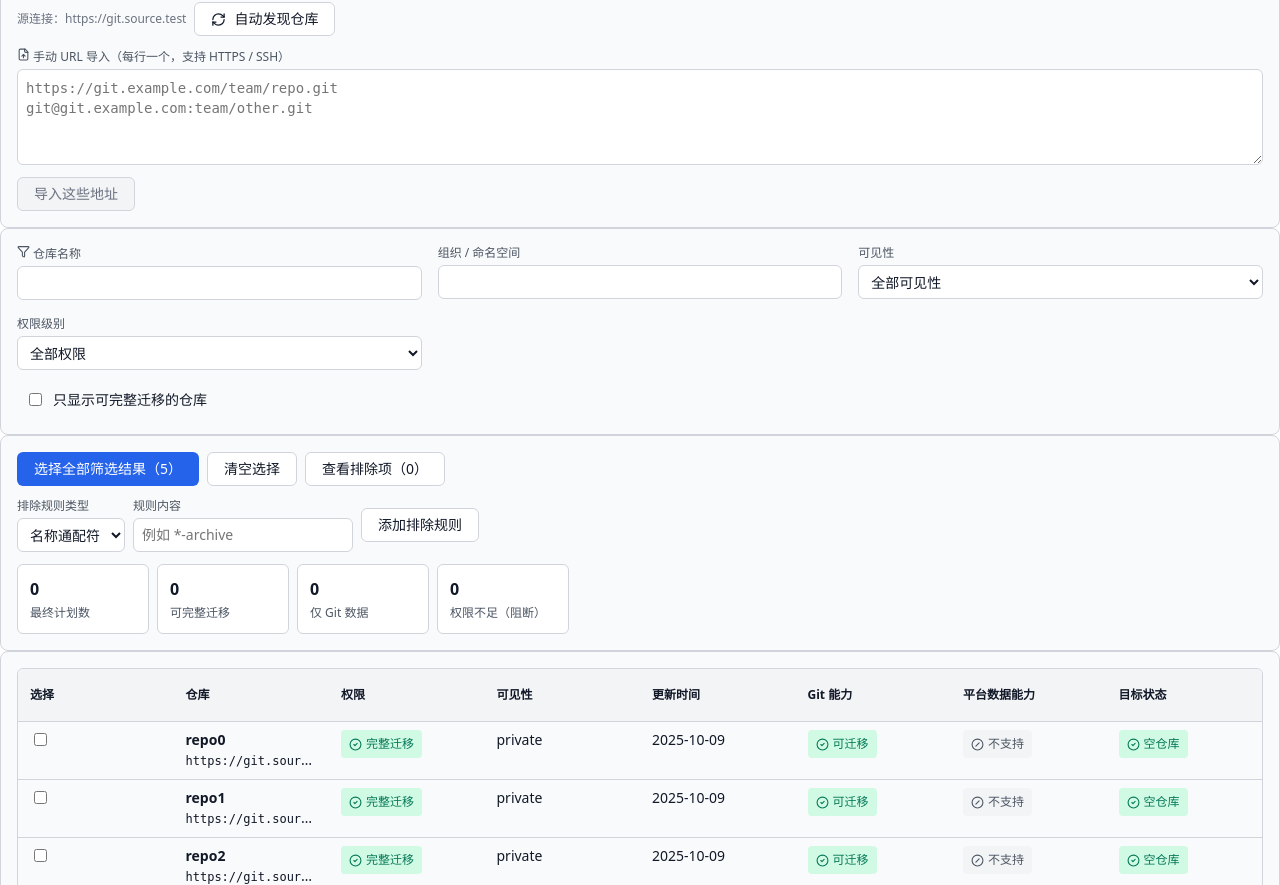
仓库选择页 › 全选后取消一行，横幅与最终计划数同时更新
Click the button "选择全部筛选结果（5）".
click(108, 469)  # box [17,452,199,486]
(page scrolled)
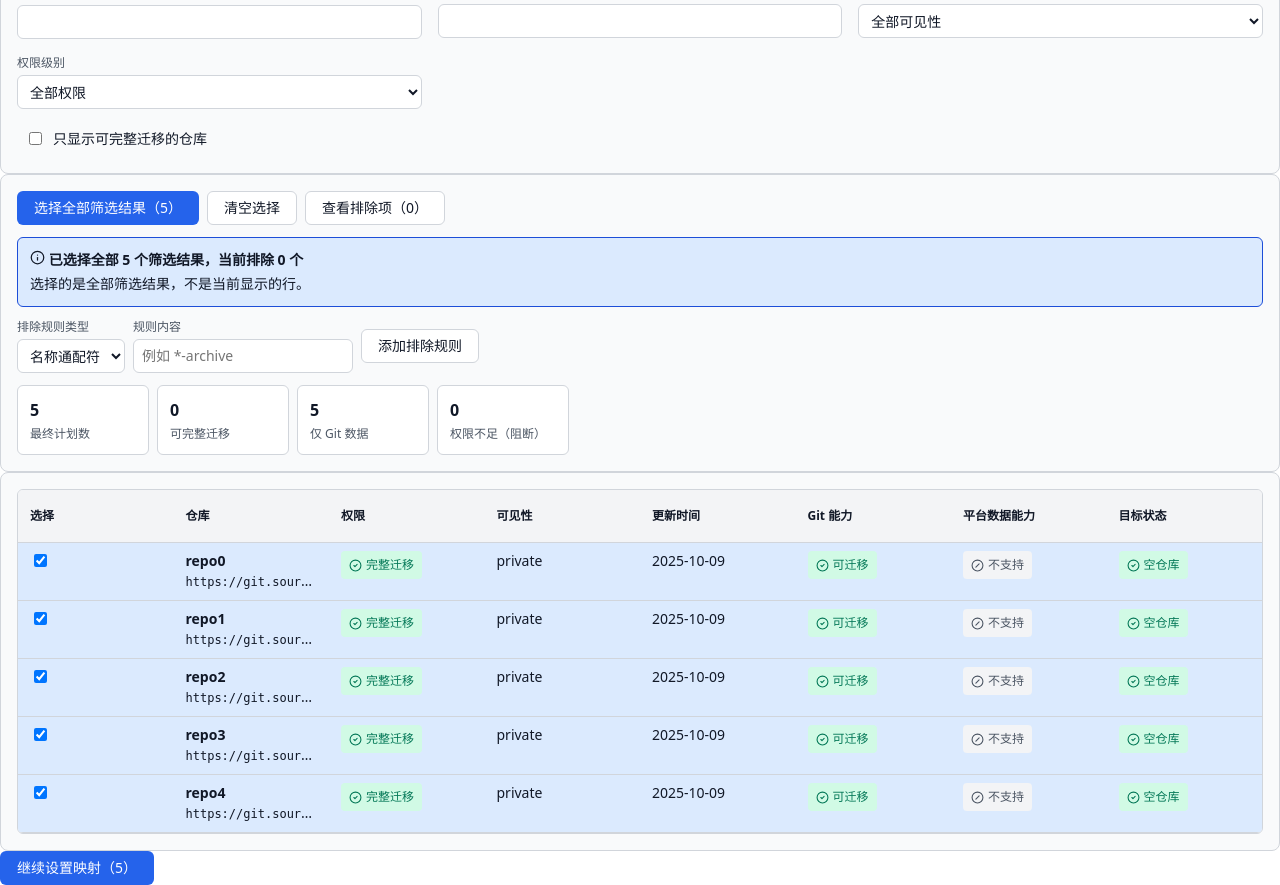
Click the checkbox named "选择 repo2".
click(40, 676)  # box [34,670,47,683]
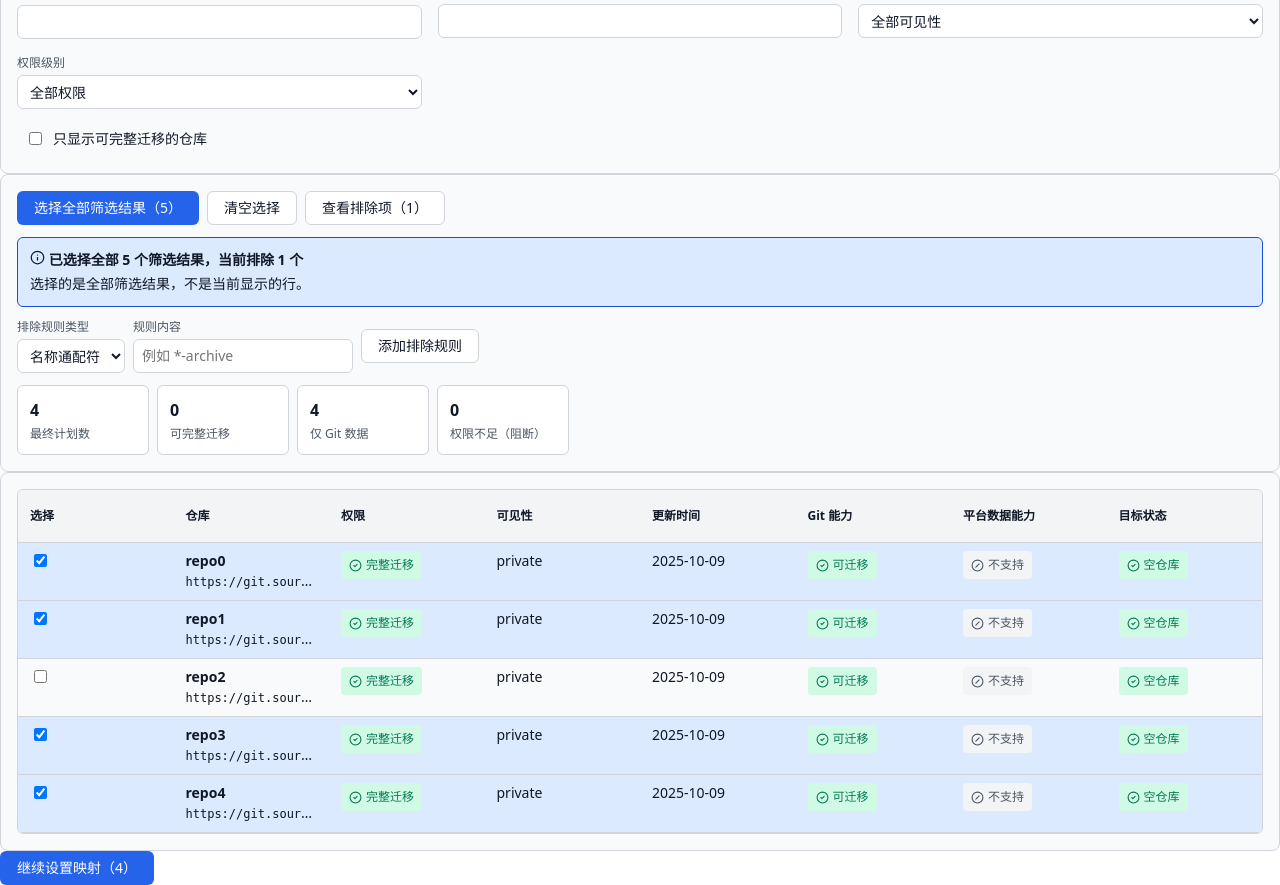
Now the text "已选择全部 5 个筛选结果，当前排除 1 个" is shown, box [30,250,303,269]
Now the button "继续设置映射（4）" is shown, box [0,851,154,884]
Click the button "查看排除项（1）".
click(375, 208)  # box [305,191,445,225]
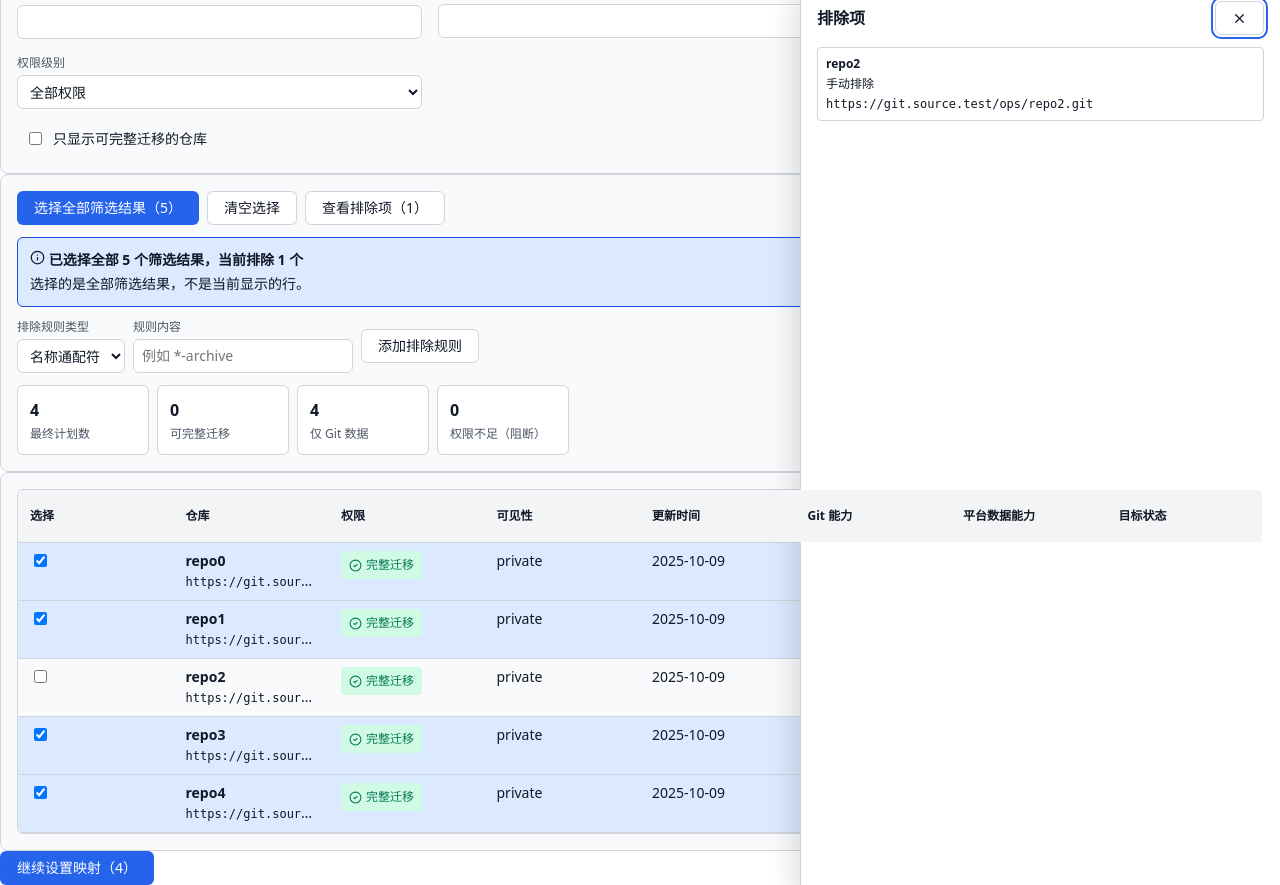
Now the 1st text "repo2" is shown, box [826,55,860,72]
Now the text "手动排除" is shown, box [826,75,874,92]
